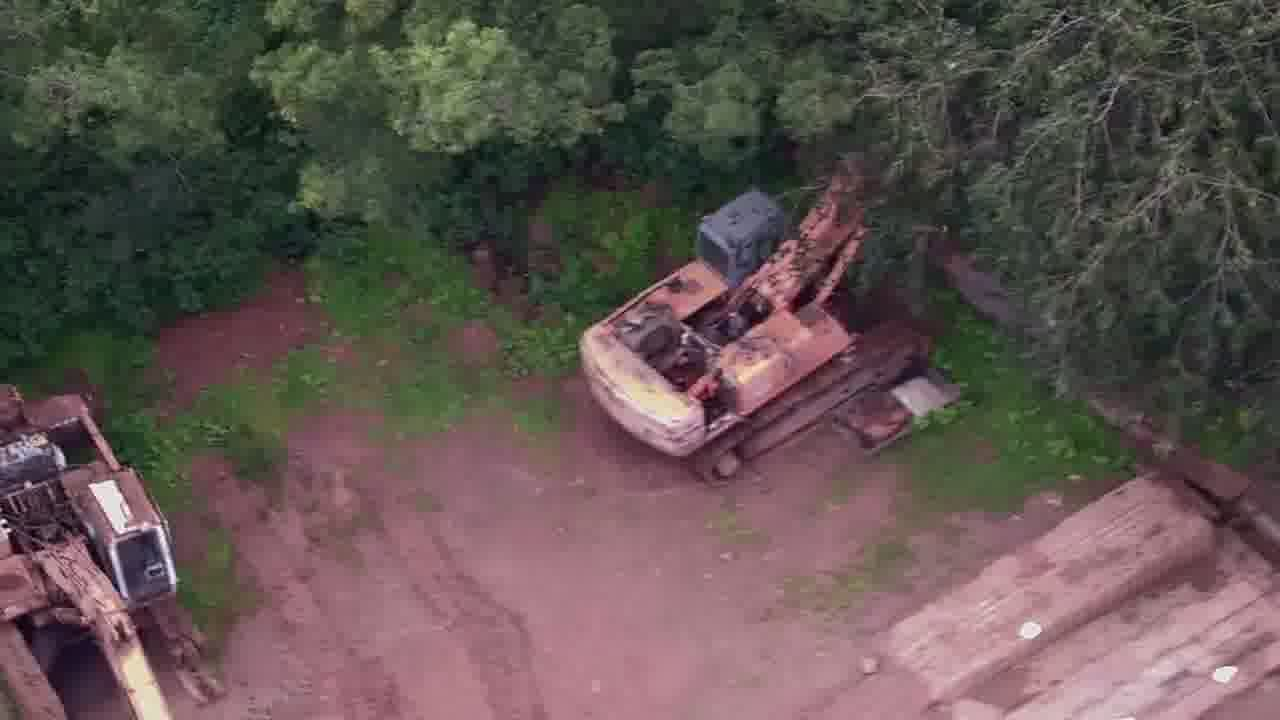HMV: (573, 123, 911, 480), (1, 341, 179, 716)
